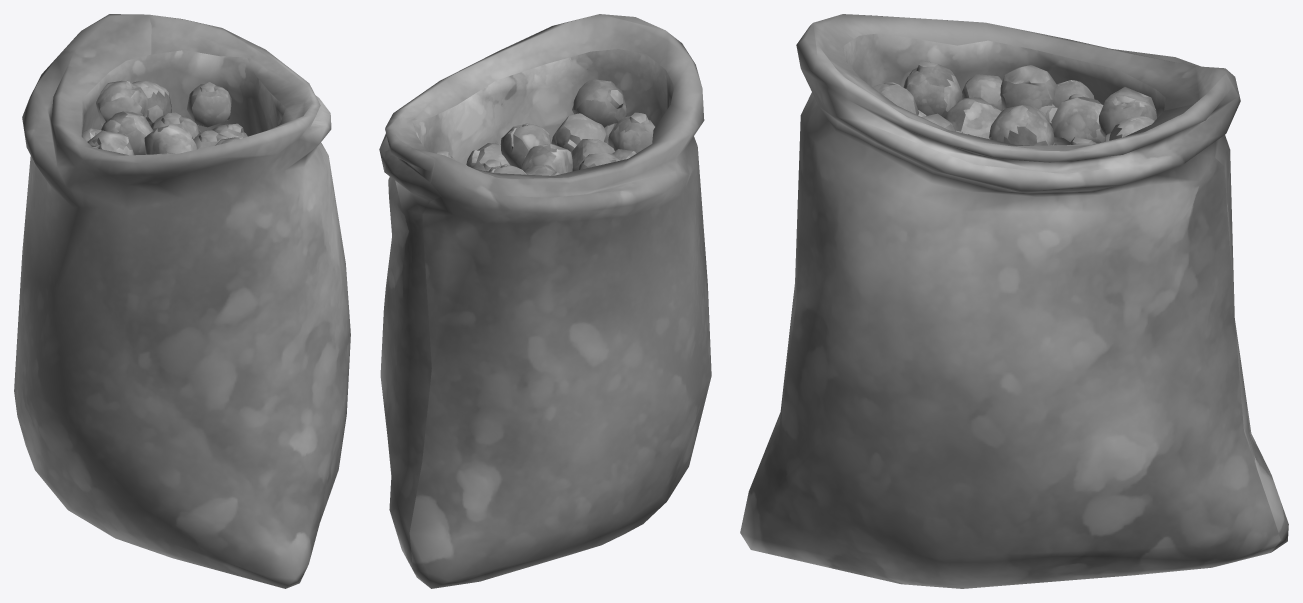
The model's file is SM_Sack_Lemon_01a1.fbx.
3 renders of one model, left to right at view 1: azimuth 30°, elevation 25°; view 2: azimuth 150°, elevation 25°; view 3: azimuth 270°, elevation 25°, orthographic. The views are drawn at different scales.
Visible parts, largest first — view 1: SM_Sack_Lemon_01a1_LOD0; view 2: SM_Sack_Lemon_01a1_LOD0; view 3: SM_Sack_Lemon_01a1_LOD0.
Boxes of the visible parts, x1,y1,x2,y2 form: SM_Sack_Lemon_01a1_LOD0: [14, 14, 350, 588]; SM_Sack_Lemon_01a1_LOD0: [379, 14, 711, 588]; SM_Sack_Lemon_01a1_LOD0: [740, 14, 1288, 588].
Size of the model in its own units: 65.83 by 94.51 by 97.29.
